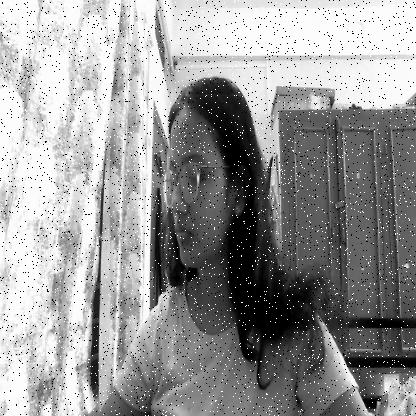Distracted: (161, 94, 244, 276)
